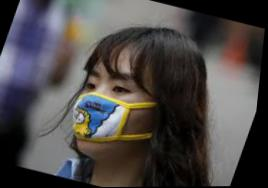WRONG: (62, 56, 164, 167)
